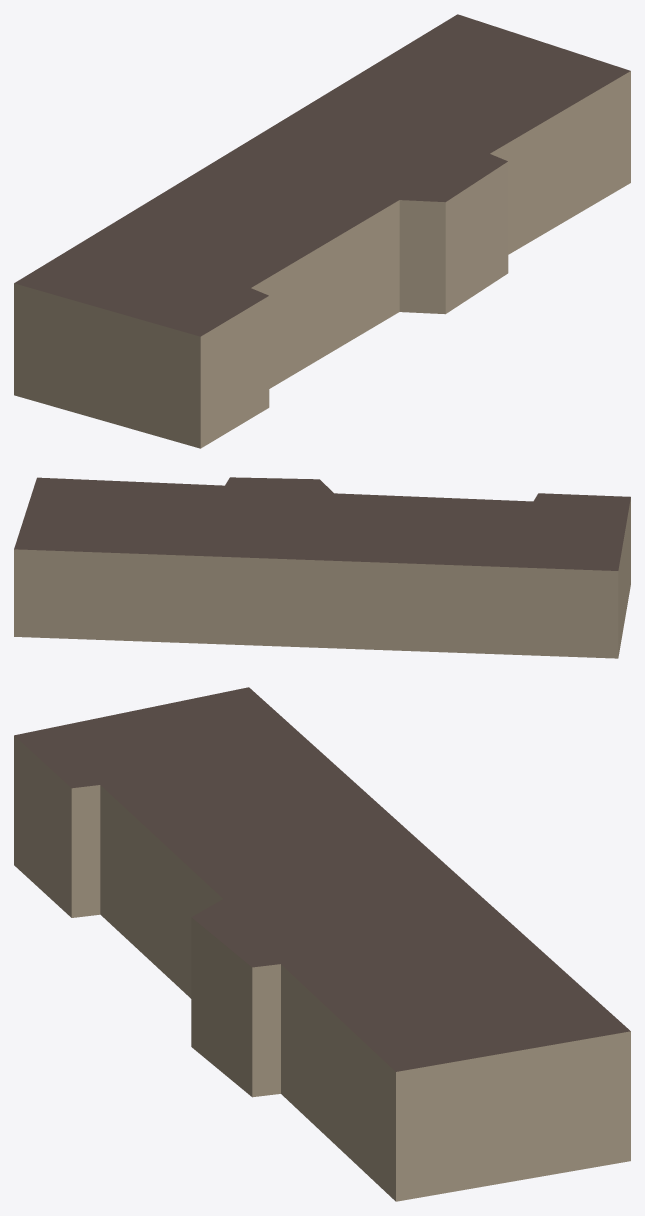
3 views of the same model, one above another, from view 1: azimuth 30°, elevation 25°; view 2: azimuth 150°, elevation 25°; view 3: azimuth 270°, elevation 25° (orthographic). The views are drawn at different scales.
Parts seen in each view (by area): view 1: HP-w1512359770; view 2: HP-w1512359770; view 3: HP-w1512359770.
Boxes of the visible parts, bbox=[...] form: HP-w1512359770: bbox=[14, 14, 630, 448]; HP-w1512359770: bbox=[14, 477, 630, 658]; HP-w1512359770: bbox=[14, 687, 630, 1201].
Bounding box in the file's own units: 57.22 × 9 × 38.77.
